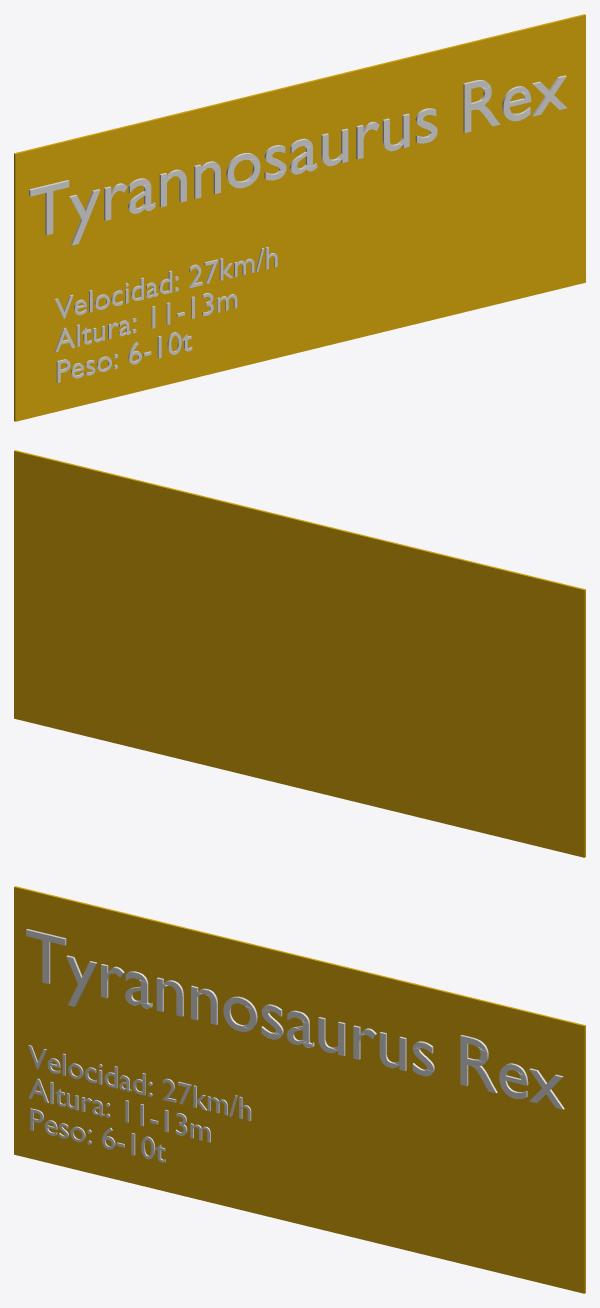
The model's file is PlacaOroTRex.fbx.
The picture shows the model from 3 angles, top to bottom: view 1: azimuth 30°, elevation 25°; view 2: azimuth 150°, elevation 25°; view 3: azimuth 330°, elevation 25°; orthographic projection.
Parts seen in each view (by area): view 1: Cube, Text, Text.001; view 2: Cube; view 3: Cube, Text, Text.001.
Part boxes in pixels (box(x1,y1,x2,y2)): Cube: box(14, 14, 585, 421); Text: box(29, 75, 567, 245); Text.001: box(54, 247, 277, 382); Cube: box(14, 450, 585, 857); Cube: box(14, 886, 585, 1293); Text: box(26, 929, 564, 1109); Text.001: box(28, 1045, 251, 1162).
Bounding box in the file's own units: 1.6 × 0.7169 × 0.0693.
